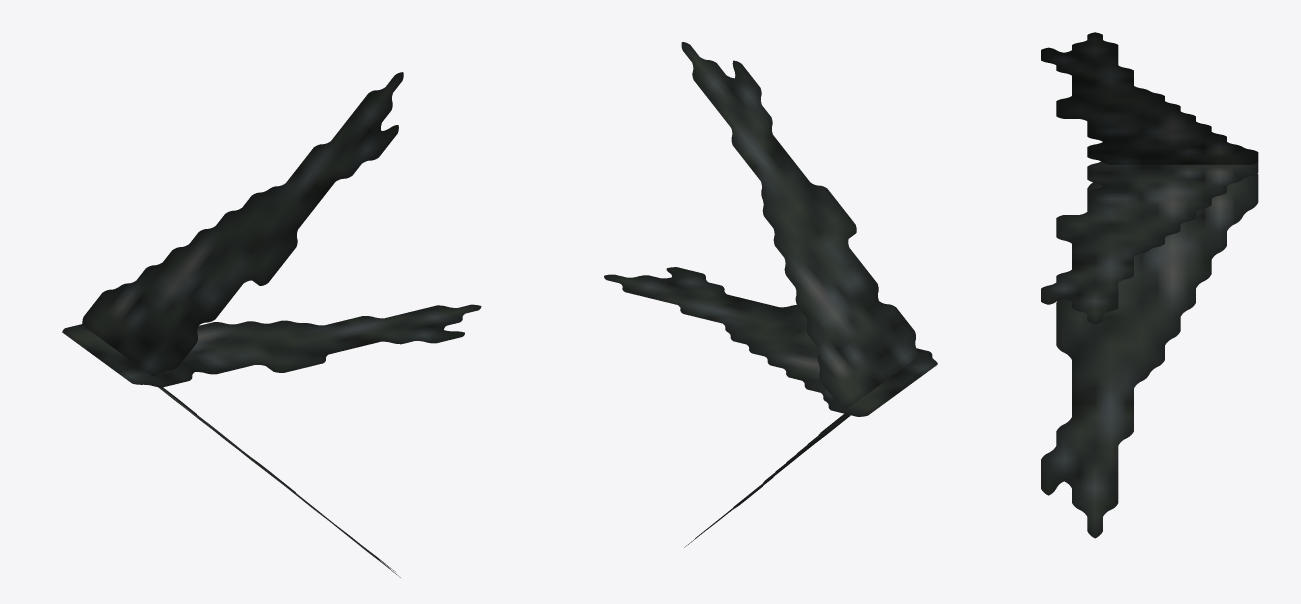
File: SM_EC_Tree_Part_Cross_09.fbx
3 renders of one model, left to right at view 1: azimuth 30°, elevation 25°; view 2: azimuth 150°, elevation 25°; view 3: azimuth 270°, elevation 25°, orthographic.
Visible parts, largest first — view 1: SM_EC_Tree_Part_Cross_09; view 2: SM_EC_Tree_Part_Cross_09; view 3: SM_EC_Tree_Part_Cross_09.
Boxes of the visible parts, box(x1,y1,x2,y2) form: SM_EC_Tree_Part_Cross_09: box(62, 72, 481, 577); SM_EC_Tree_Part_Cross_09: box(604, 42, 937, 547); SM_EC_Tree_Part_Cross_09: box(1041, 32, 1258, 538).
Bounding box in the file's own units: 0.4882 × 0.2747 × 0.6409.
